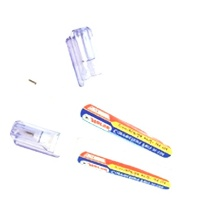correction_fluid: (25, 77, 212, 178), (6, 116, 210, 201)
